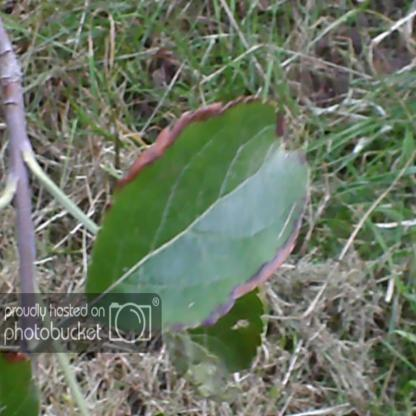Apple Scab Leaf: (78, 89, 328, 341)
